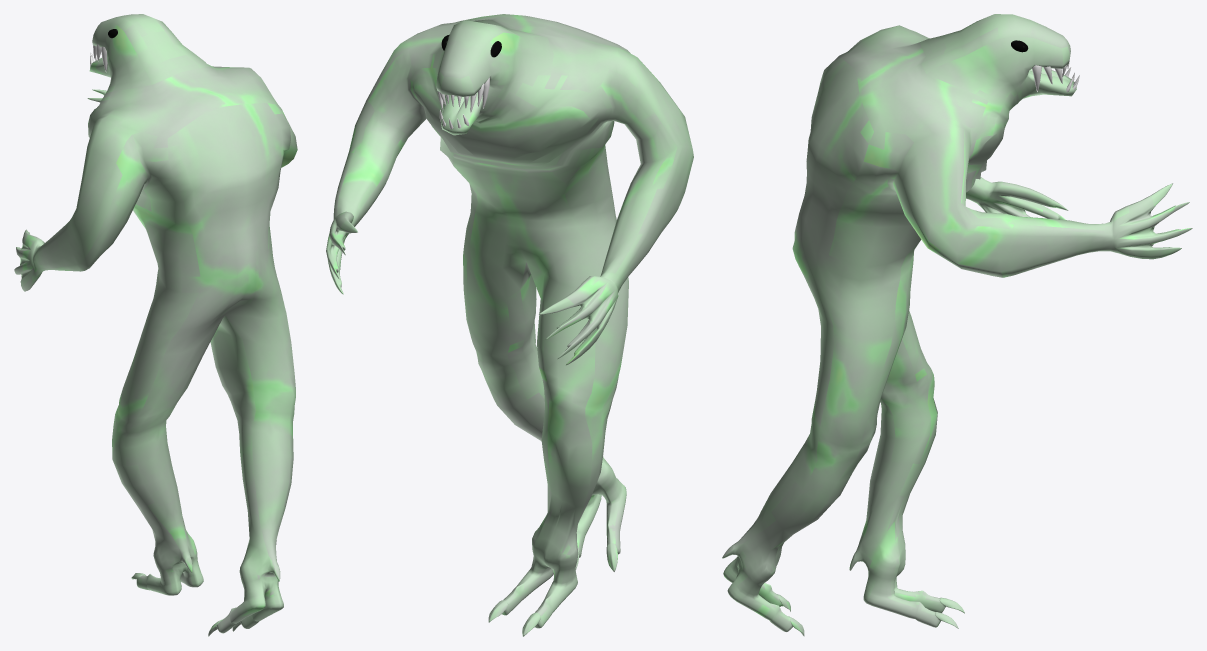
File: Berserkercorrer.0062.obj
3 views of the same model, side by side, from view 1: azimuth 30°, elevation 25°; view 2: azimuth 150°, elevation 25°; view 3: azimuth 270°, elevation 25° (orthographic). The views are drawn at different scales.
Visible parts, largest first — view 1: polySurface27; view 2: polySurface27; view 3: polySurface27.
Boxes of the visible parts, <box> form: polySurface27: <box>14,14,297,636</box>; polySurface27: <box>326,14,693,636</box>; polySurface27: <box>722,14,1192,636</box>.
Bounding box in the file's own units: 11.16 × 23.65 × 16.4.
1 material, 1 textured.
